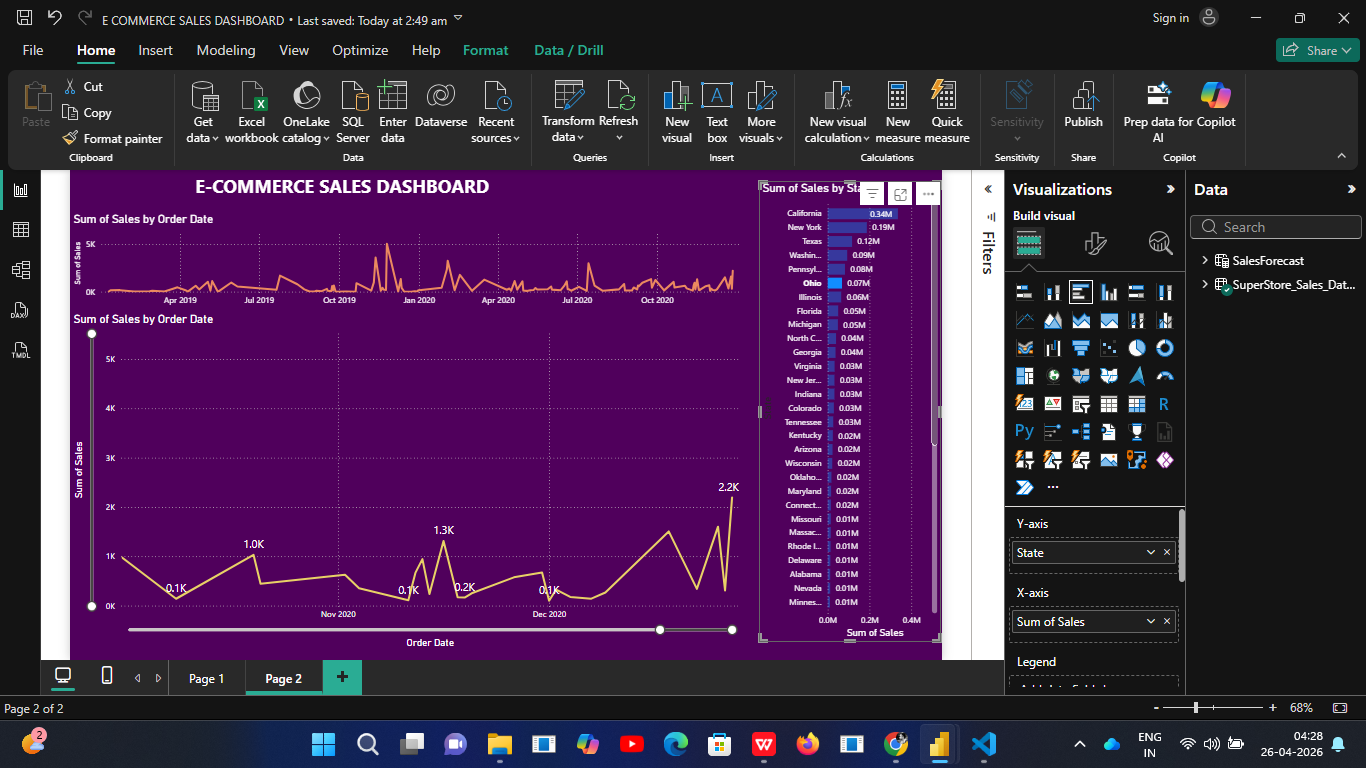

Layout of this report page (visuals, bound fields, positions):
{"tool":"powerbi","page":{"name":"Page 2","canvas":[1280,720],"ordinal":1},"visuals":[{"type":"lineChart","fields":{"Y":["Sum(SuperStore_Sales_Dataset (2).Sales)"],"Category":["SuperStore_Sales_Dataset (2).Order Date"]},"box":[0,61.4,1002.9,147.1],"z":0},{"type":"lineChart","fields":{"Y":["Sum(SuperStore_Sales_Dataset (2).Sales)"],"Category":["SuperStore_Sales_Dataset (2).Order Date"]},"box":[0,208.6,1002.9,498.6],"z":1},{"type":"clusteredBarChart","fields":{"Category":["SuperStore_Sales_Dataset (2).State"],"Y":["Sum(SuperStore_Sales_Dataset (2).Sales)"]},"box":[1012.9,15.7,267.1,677.1],"z":2},{"type":"textbox","box":[0,0,800,61.4],"z":3}]}

Visuals, with their boxes on the page's 1280x720 design canvas (x1, y1, x2, y2). These are canvas units, not pixel positions in the 1366x768 screenshot, which may show the page scaled, cropped or inside an application window:
lineChart - Sum(SuperStore_Sales_Dataset (2).Sales) x SuperStore_Sales_Dataset (2).Order Date: x1=0 y1=61 x2=1003 y2=208
lineChart - Sum(SuperStore_Sales_Dataset (2).Sales) x SuperStore_Sales_Dataset (2).Order Date: x1=0 y1=209 x2=1003 y2=707
clusteredBarChart - SuperStore_Sales_Dataset (2).State x Sum(SuperStore_Sales_Dataset (2).Sales): x1=1013 y1=16 x2=1280 y2=693
textbox: x1=0 y1=0 x2=800 y2=61
